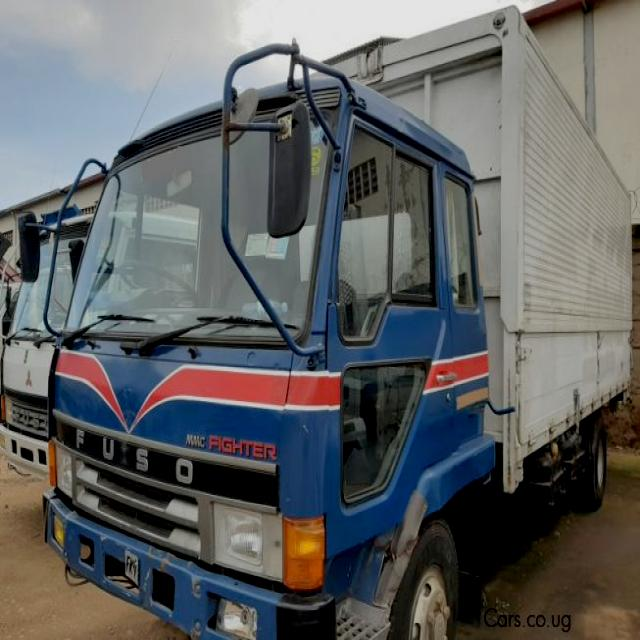truck: (21, 5, 631, 640)
